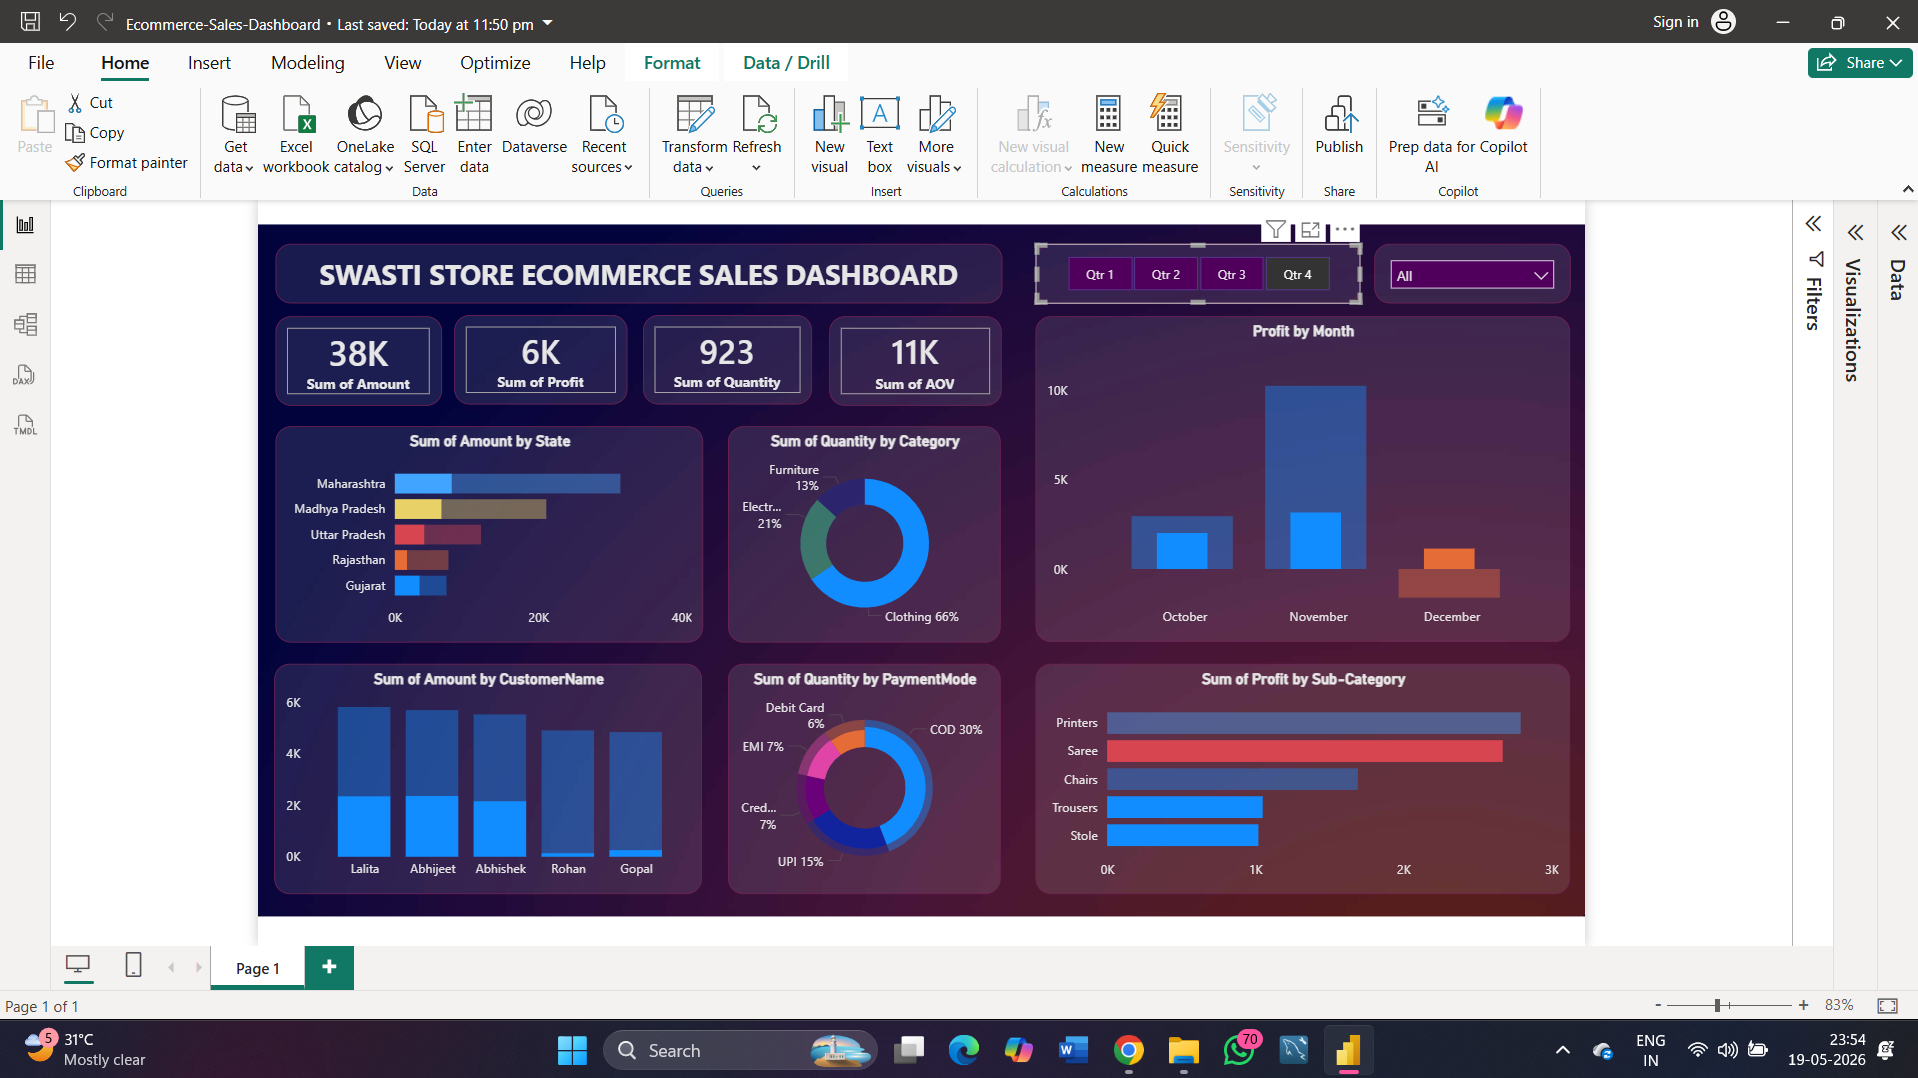

Layout of this report page (visuals, bound fields, positions):
{"tool":"powerbi","page":{"name":"Page 1","canvas":[1280,720],"ordinal":0},"visuals":[{"type":"columnChart","title":"Profit by Month","fields":{"Category":["Orders (1).Order Date.Variation.Date Hierarchy.Month"],"Y":["Sum(Details (1).Profit)"]},"box":[750.6,112.5,516,314.2],"z":0},{"type":"barChart","fields":{"Category":["Details (1).Sub-Category"],"Y":["Sum(Details (1).Profit)"]},"box":[750.6,447.3,516,222.3],"z":1000},{"type":"donutChart","fields":{"Category":["Details (1).Category"],"Y":["Sum(Details (1).Quantity)"]},"box":[454.2,218.2,263.5,208.6],"z":2000},{"type":"donutChart","fields":{"Y":["Sum(Details (1).Quantity)"],"Category":["Details (1).PaymentMode"]},"box":[454.2,447.3,263.5,222.3],"z":3000},{"type":"cardVisual","fields":{"Data":["Sum(Details (1).Amount)"]},"box":[16.5,112.5,160.5,86.4],"z":4000},{"type":"cardVisual","fields":{"Data":["Sum(Details (1).Quantity)"]},"box":[371.9,111.1,163.3,86.4],"z":5000},{"type":"cardVisual","fields":{"Data":["Sum(Details (1).Profit)"]},"box":[189.4,111.1,167.4,86.4],"z":6000},{"type":"cardVisual","fields":{"Data":["Sum(Details (1).AOV)"]},"box":[551.6,112.5,166,86.4],"z":7000},{"type":"barChart","fields":{"Category":["Orders (1).State"],"Y":["Sum(Details (1).Amount)"]},"box":[16.5,218.2,413,208.6],"z":8000},{"type":"columnChart","fields":{"Category":["Orders (1).CustomerName"],"Y":["Sum(Details (1).Amount)"]},"box":[16,447,413,222],"z":9000},{"type":"textbox","box":[16.5,42.5,701.2,57.6],"z":10000},{"type":"slicer","fields":{"Values":["Orders (1).Order Date.Variation.Date Hierarchy.Quarter"]},"box":[750.4,42.2,313.7,57.9],"z":11000},{"type":"slicer","fields":{"Values":["Orders (1).State"]},"box":[1077.4,42.2,189.4,57.9],"z":12000}]}

Visuals, with their boxes on the page's 1280x720 design canvas (x1, y1, x2, y2). These are canvas units, not pixel positions in the 1918x1078 screenshot, which may show the page scaled, cropped or inside an application window:
"Profit by Month" columnChart: 751 112 1267 427
barChart - Details (1).Sub-Category x Sum(Details (1).Profit): 751 447 1267 670
donutChart - Details (1).Category x Sum(Details (1).Quantity): 454 218 718 427
donutChart - Sum(Details (1).Quantity) x Details (1).PaymentMode: 454 447 718 670
cardVisual - Sum(Details (1).Amount): 16 112 177 199
cardVisual - Sum(Details (1).Quantity): 372 111 535 198
cardVisual - Sum(Details (1).Profit): 189 111 357 198
cardVisual - Sum(Details (1).AOV): 552 112 718 199
barChart - Orders (1).State x Sum(Details (1).Amount): 16 218 430 427
columnChart - Orders (1).CustomerName x Sum(Details (1).Amount): 16 447 429 669
textbox: 16 42 718 100
slicer - Orders (1).Order Date.Variation.Date Hierarchy.Quarter: 750 42 1064 100
slicer - Orders (1).State: 1077 42 1267 100
